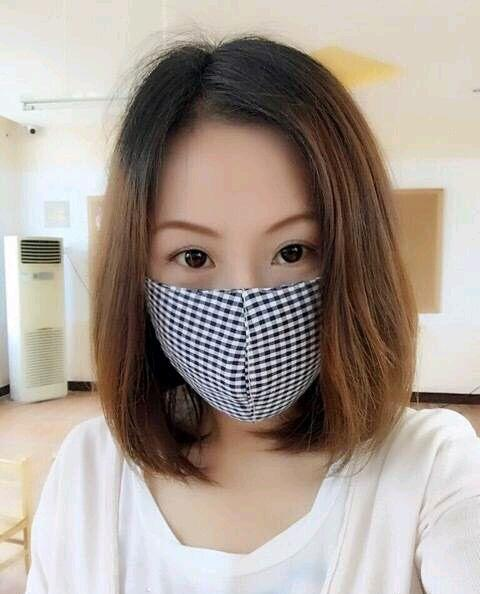OK: (126, 207, 340, 421)
